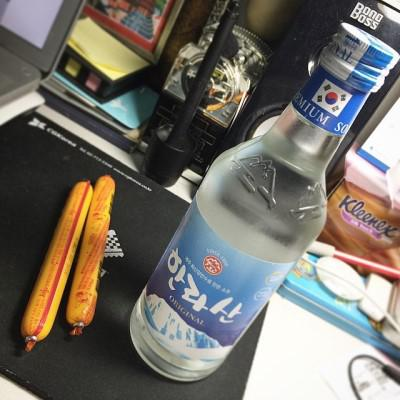soju: (124, 13, 400, 385)
